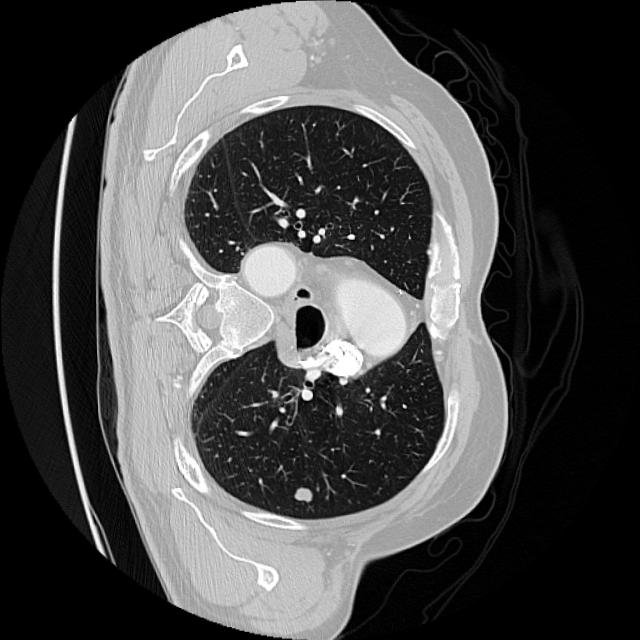nodule: (284, 476, 322, 515)
